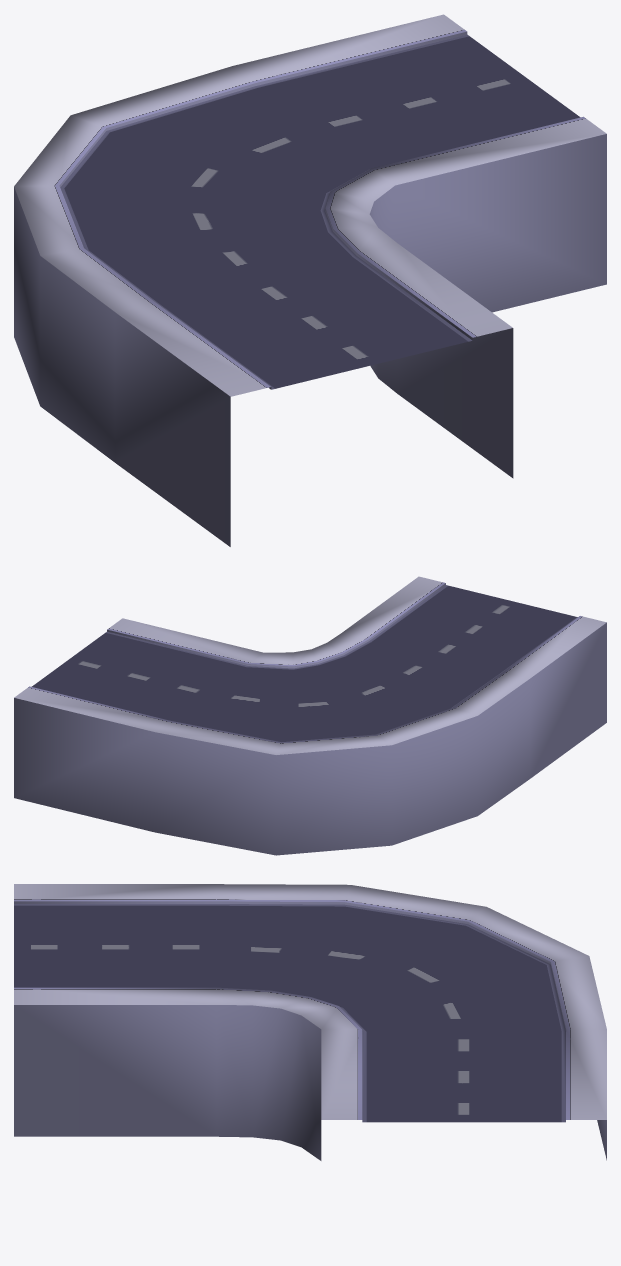
The model's file is Turn_right.fbx.
The picture shows the model from 3 angles, top to bottom: view 1: azimuth 30°, elevation 25°; view 2: azimuth 150°, elevation 25°; view 3: azimuth 270°, elevation 25°; orthographic projection. The views are drawn at different scales.
Parts seen in each view (by area): view 1: Block_right; view 2: Block_right; view 3: Block_right.
Part boxes in pixels (x1=…): Block_right: x1=14, y1=14, x2=606, y2=546; Block_right: x1=14, y1=576, x2=606, y2=855; Block_right: x1=14, y1=884, x2=606, y2=1160.
Bounding box in the file's own units: 39.07 × 10.19 × 41.52.
1 material, 1 textured.
